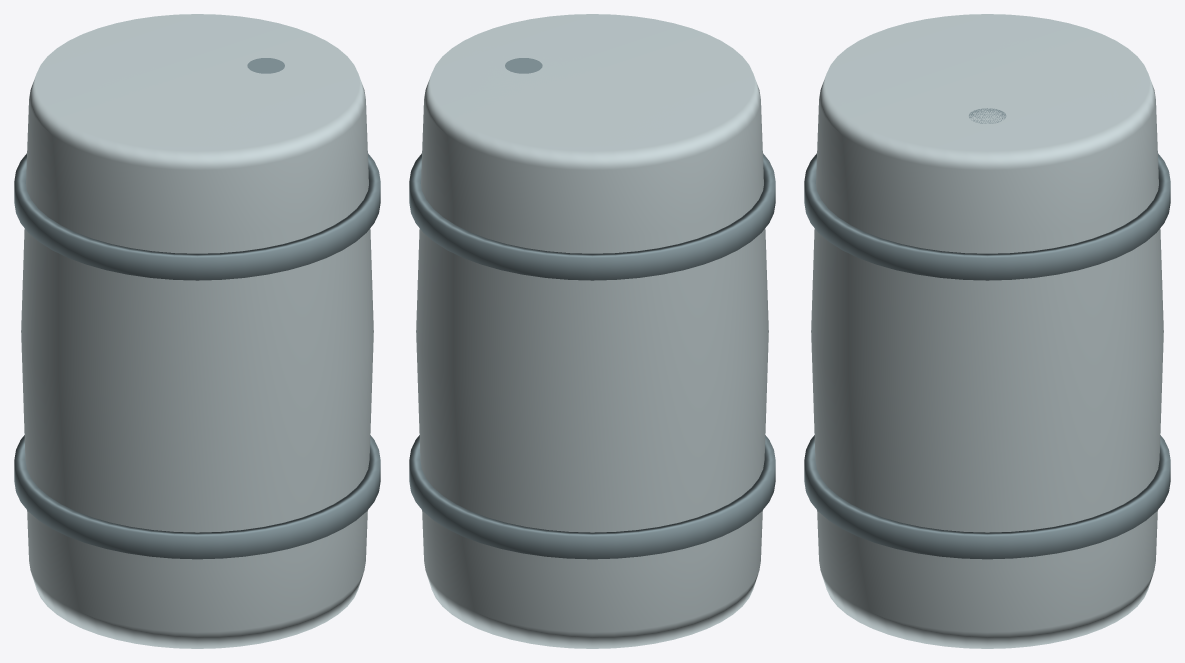
The model's file is barrel.glb.
3 renders of one model, left to right at view 1: azimuth 30°, elevation 25°; view 2: azimuth 150°, elevation 25°; view 3: azimuth 270°, elevation 25°, orthographic.
Parts seen in each view (by area): view 1: barrel_shell, hoop_0.702, hoop_0.198, lid; view 2: barrel_shell, hoop_0.702, hoop_0.198, lid; view 3: barrel_shell, hoop_0.702, hoop_0.198, lid.
Boxes of the visible parts, x1,y1,x2,y2 form: barrel_shell: [21, 14, 373, 648]; hoop_0.702: [14, 153, 380, 280]; hoop_0.198: [14, 435, 380, 559]; lid: [43, 53, 352, 147]; barrel_shell: [416, 14, 768, 648]; hoop_0.702: [409, 153, 775, 280]; hoop_0.198: [409, 435, 775, 559]; lid: [438, 38, 747, 147]; barrel_shell: [811, 14, 1163, 648]; hoop_0.702: [804, 153, 1170, 280]; hoop_0.198: [804, 435, 1170, 559]; lid: [836, 39, 1140, 130].
Bounding box in the file's own units: 0.6 × 0.9 × 0.6.
